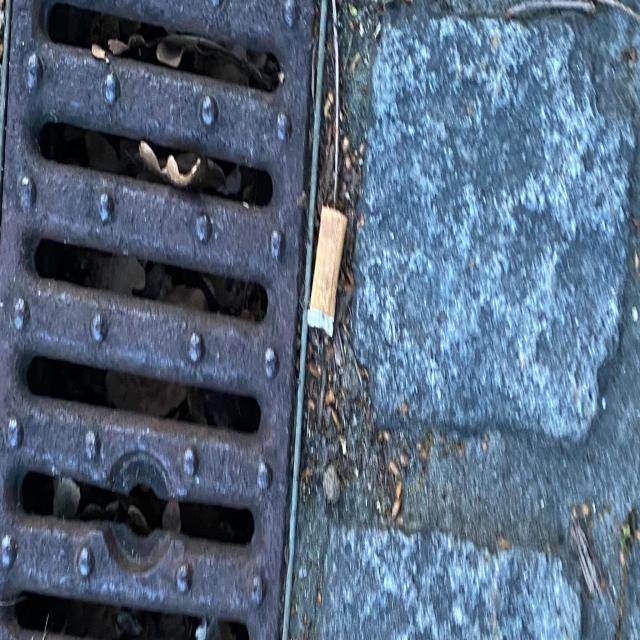other waste: (306, 204, 348, 340)
